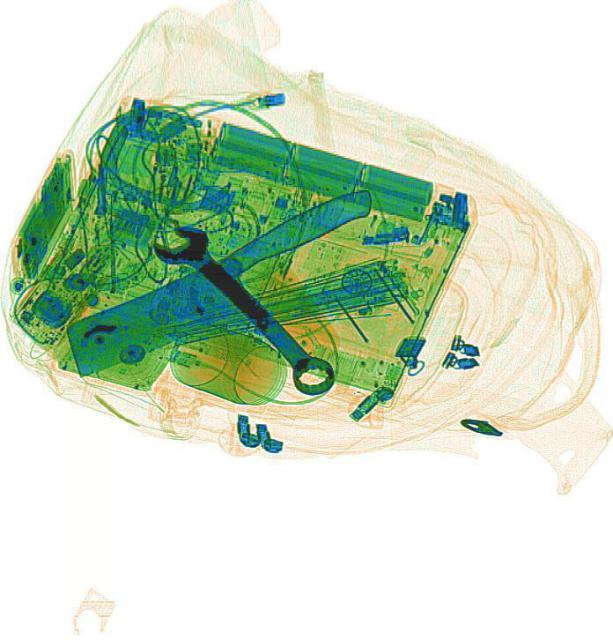Knife: (49, 184, 394, 378)
Wrench: (147, 211, 350, 405)
